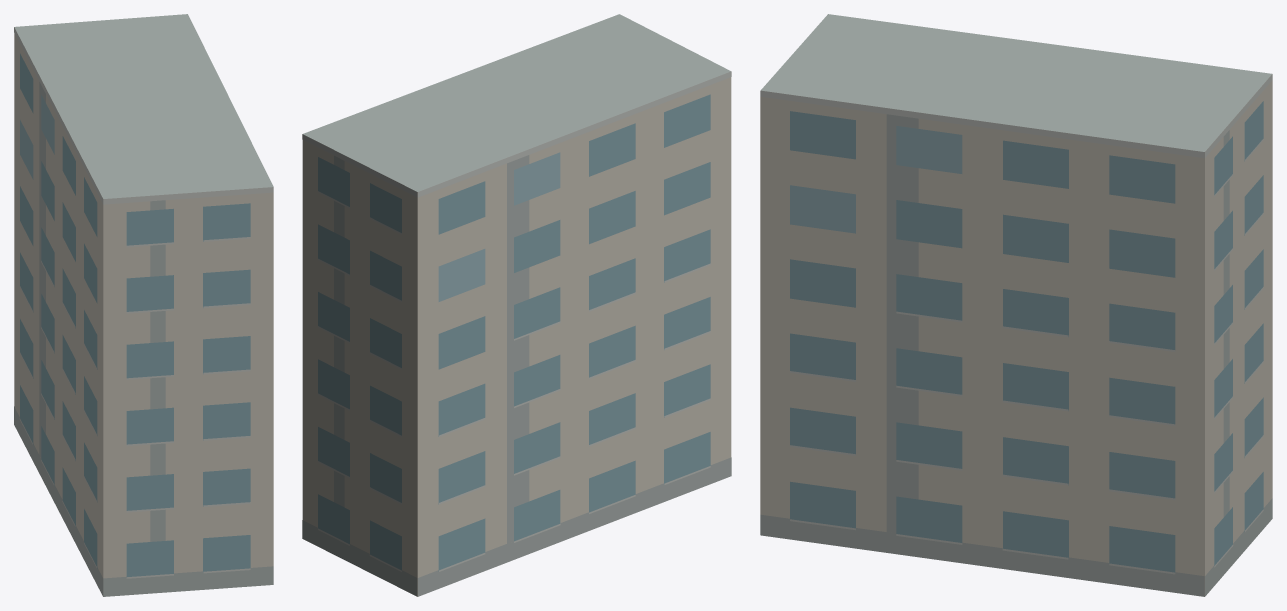
File: survey-upis-32876510.glb
3 renders of one model, left to right at view 1: azimuth 30°, elevation 25°; view 2: azimuth 150°, elevation 25°; view 3: azimuth 270°, elevation 25°, orthographic. The views are drawn at different scales.
Visible parts, largest first — view 1: survey-upis-32876510.tmp; view 2: survey-upis-32876510.tmp; view 3: survey-upis-32876510.tmp.
Boxes of the visible parts, box(x1,y1,x2,y2) form: survey-upis-32876510.tmp: box(14, 14, 273, 596); survey-upis-32876510.tmp: box(302, 14, 731, 596); survey-upis-32876510.tmp: box(760, 14, 1272, 596).
Bounding box in the file's own units: 11.69 × 17.55 × 18.32.
